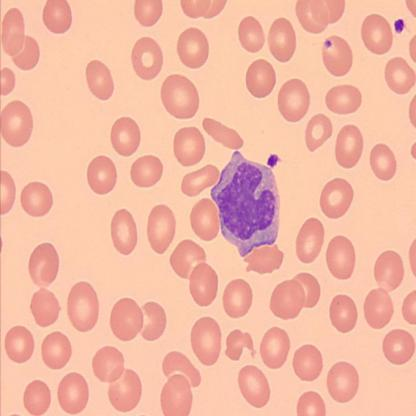Monocyte: (207, 148, 283, 257)
